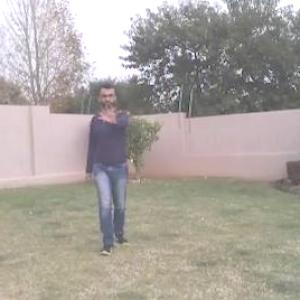follow_hand: (97, 100, 120, 126)
